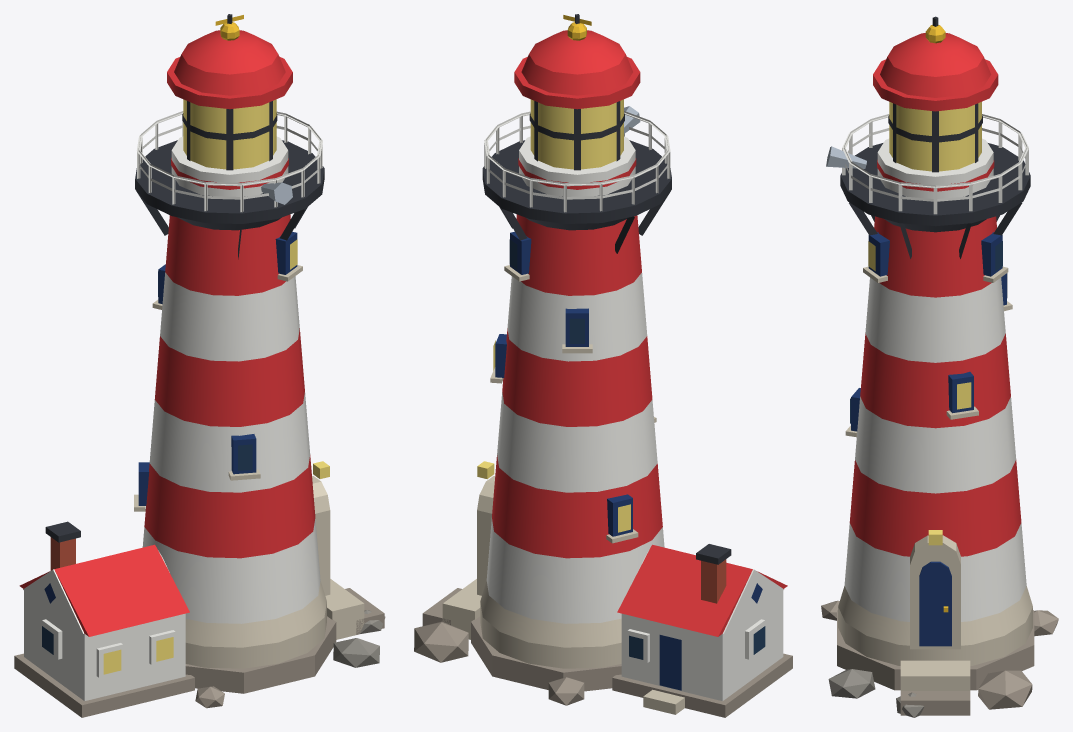
File: lighthouse.glb
The picture shows the model from 3 angles, left to right: view 1: azimuth 30°, elevation 25°; view 2: azimuth 150°, elevation 25°; view 3: azimuth 270°, elevation 25°; orthographic projection.
Parts seen in each view (by area): view 1: Body; view 2: Body; view 3: Body.
Boxes of the visible parts, x1,y1,x2,y2 form: Body: (14, 14, 385, 717); Body: (414, 14, 792, 717); Body: (821, 16, 1058, 717).
Bounding box in the file's own units: 1.61 × 3 × 1.02.
